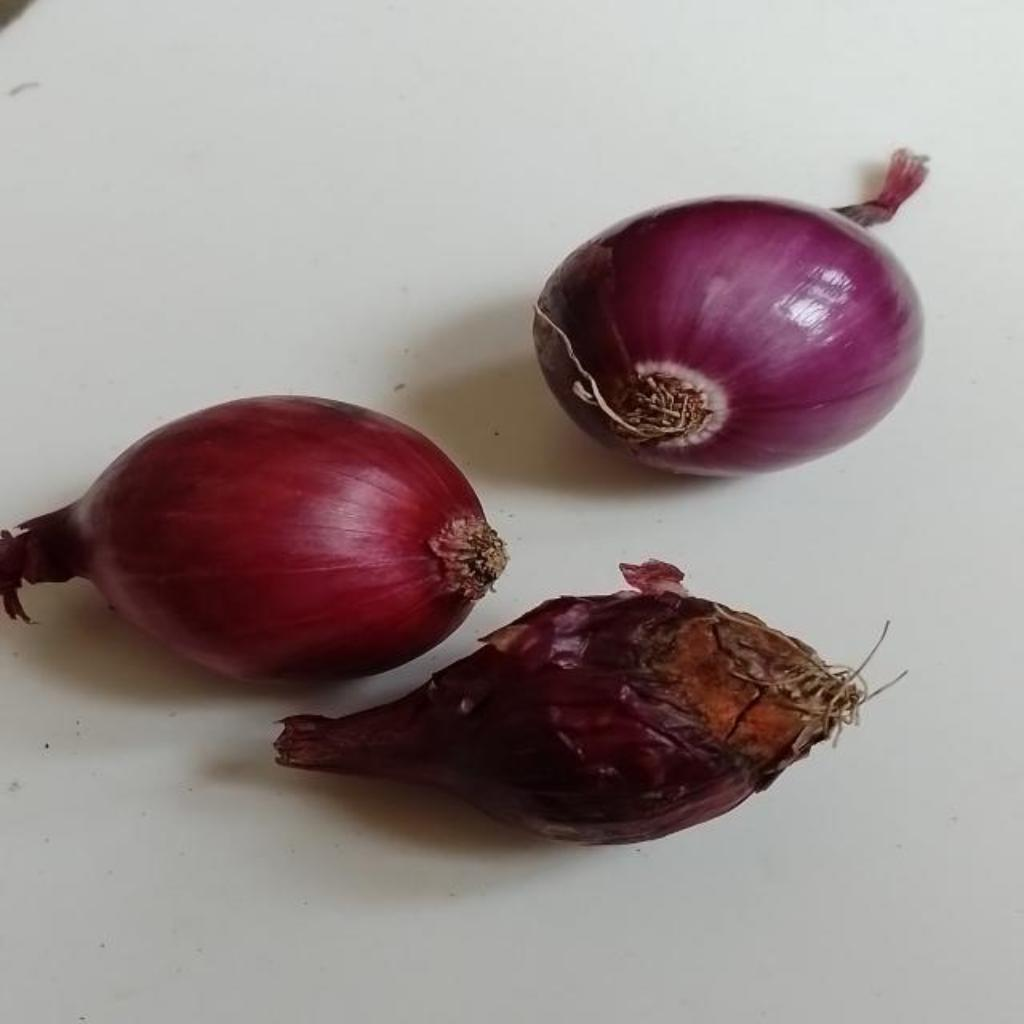Onion: (275, 594, 866, 844), (0, 397, 504, 679), (534, 150, 927, 474)
